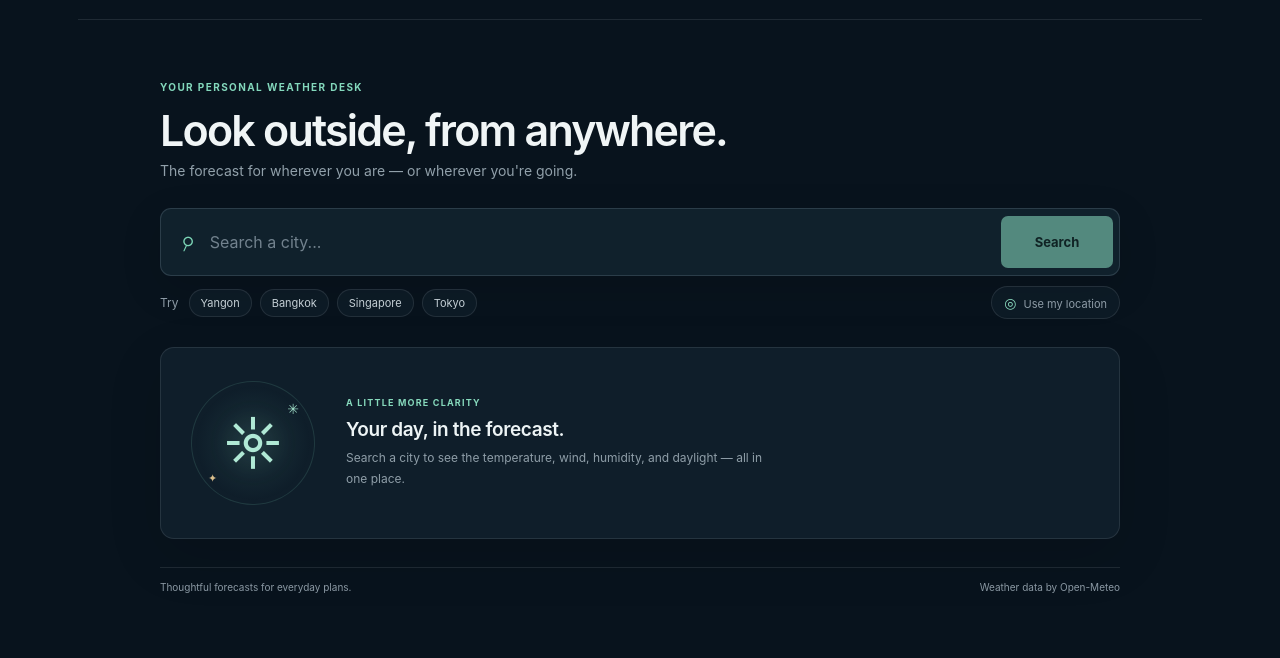
Test: keeps weather available and explains when air quality cannot be loaded
Type "Yangon" into the field named "Search for a city" at (598, 242), box [208,231,989,253]
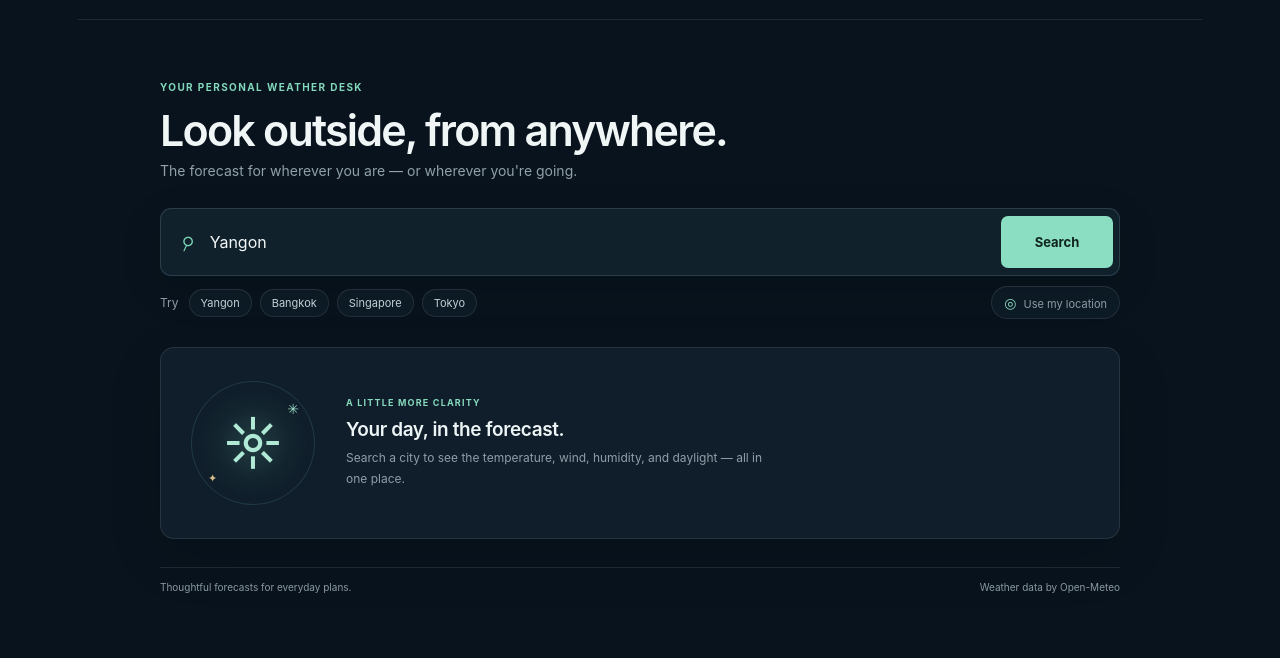
Click the button "Search" at (1057, 242), box [1001,216,1113,268]
(page scrolled)
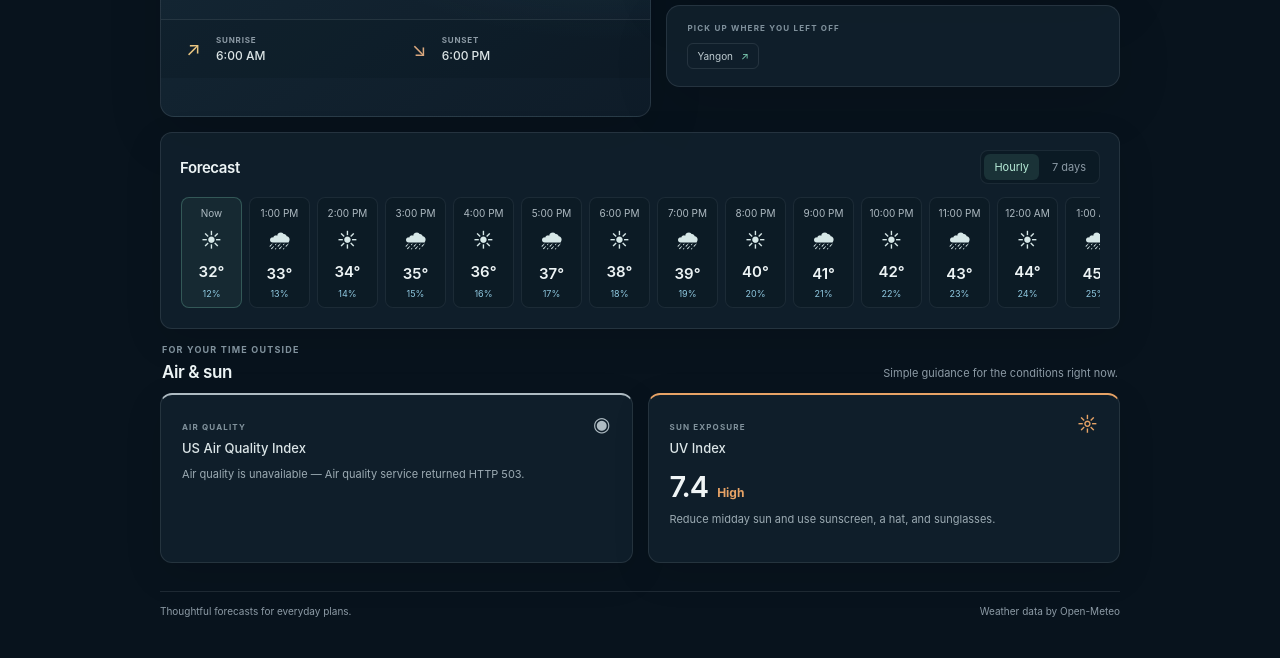
Result: the element "AIR QUALITY" shows "Air quality is unavailable" at [182,467,308,481]
Result: the element "AIR QUALITY" shows "Air quality service returned HTTP 503" at [308,467,525,481]
Result: the element "UV Index" shows "High" at [717,485,744,500]
